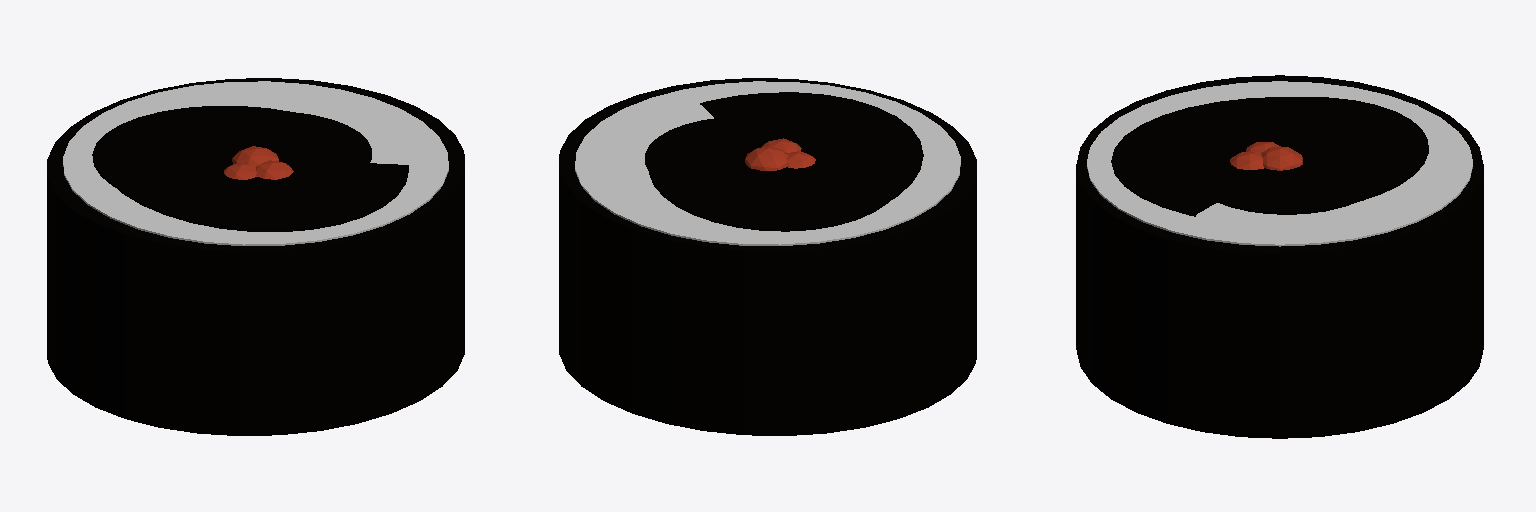
The model's file is sushi.obj.
3 views of the same model, side by side, from view 1: azimuth 30°, elevation 25°; view 2: azimuth 150°, elevation 25°; view 3: azimuth 270°, elevation 25° (orthographic).
Visible parts, largest first — view 1: Cylinder_Cylinder.001, Cylinder.001_Cylinder.002, Cylinder.003_Cylinder.004, Cylinder.002_Cylinder.003, Cylinder.004_Cylinder.005, Cylinder.005_Cylinder.006, Icosphere, Icosphere.001; view 2: Cylinder_Cylinder.001, Cylinder.001_Cylinder.002, Cylinder.003_Cylinder.004, Cylinder.002_Cylinder.003, Cylinder.004_Cylinder.005, Cylinder.005_Cylinder.006, Icosphere; view 3: Cylinder_Cylinder.001, Cylinder.001_Cylinder.002, Cylinder.002_Cylinder.003, Cylinder.003_Cylinder.004, Cylinder.004_Cylinder.005, Cylinder.005_Cylinder.006, Icosphere.
Part boxes in pixels (x1,y1,x2,y2): Cylinder_Cylinder.001: (47, 78, 464, 435); Cylinder.001_Cylinder.002: (63, 81, 448, 245); Cylinder.003_Cylinder.004: (92, 106, 289, 194); Cylinder.002_Cylinder.003: (96, 151, 408, 231); Cylinder.004_Cylinder.005: (251, 111, 371, 200); Cylinder.005_Cylinder.006: (180, 136, 254, 200); Icosphere: (232, 146, 278, 166); Icosphere.001: (256, 160, 293, 179); Cylinder_Cylinder.001: (559, 78, 976, 435); Cylinder.001_Cylinder.002: (575, 81, 960, 245); Cylinder.003_Cylinder.004: (649, 164, 897, 231); Cylinder.002_Cylinder.003: (700, 92, 923, 224); Cylinder.004_Cylinder.005: (645, 116, 851, 180); Cylinder.005_Cylinder.006: (727, 140, 863, 190); Icosphere: (745, 146, 787, 170); Cylinder_Cylinder.001: (1076, 75, 1483, 438); Cylinder.001_Cylinder.002: (1087, 81, 1472, 246); Cylinder.002_Cylinder.003: (1111, 97, 1380, 216); Cylinder.003_Cylinder.004: (1271, 97, 1428, 201); Cylinder.004_Cylinder.005: (1183, 139, 1374, 214); Cylinder.005_Cylinder.006: (1197, 124, 1351, 165); Icosphere: (1261, 147, 1302, 170).
Size of the model in its own units: 2.08 by 1.16 by 2.